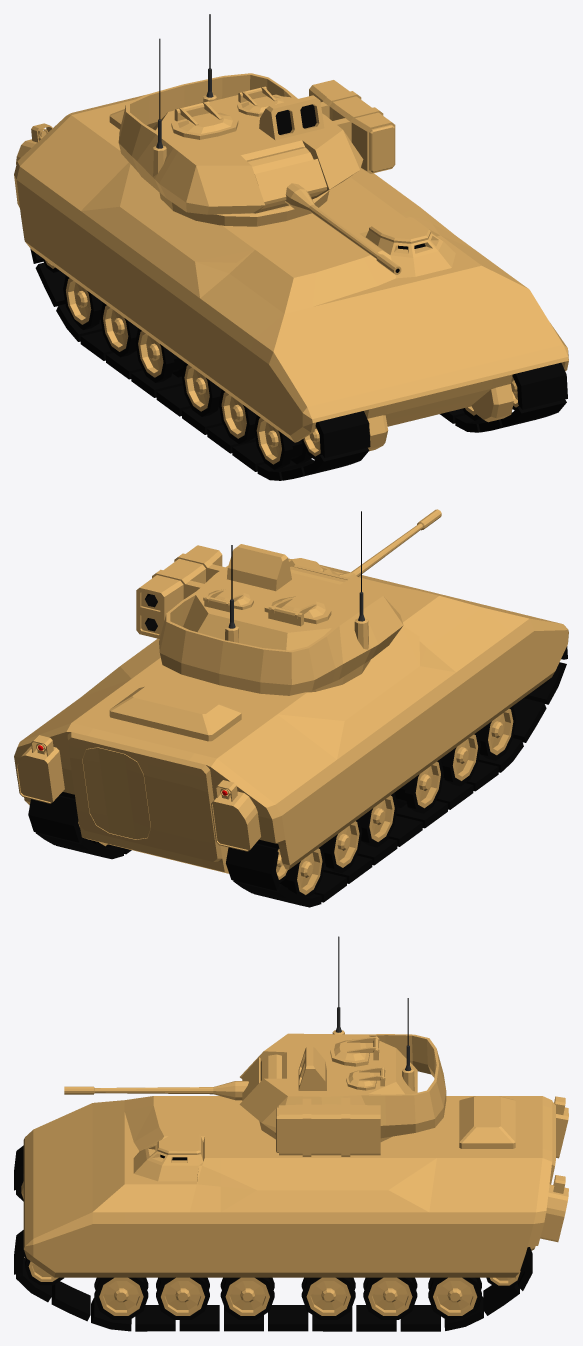
3 renders of one model, top to bottom at view 1: azimuth 30°, elevation 25°; view 2: azimuth 150°, elevation 25°; view 3: azimuth 270°, elevation 25°, orthographic. The views are drawn at different scales.
Visible parts, largest first — view 1: Plane, Plane.001, Cylinder, Plane.003, Plane.004; view 2: Plane, Plane.001, Cylinder, Plane.002, Plane.003, Plane.004; view 3: Plane, Cylinder, Plane.001, Plane.003, Plane.004, Plane.005.
Boxes of the visible parts, left/top/right/bottom form: Plane: left=14, top=95, right=568, bottom=451; Plane.001: left=118, top=14, right=395, bottom=214; Cylinder: left=30, top=249, right=567, bottom=480; Plane.003: left=254, top=159, right=401, bottom=274; Plane.004: left=178, top=102, right=232, bottom=133; Plane: left=14, top=558, right=568, bottom=873; Plane.001: left=136, top=511, right=403, bottom=695; Cylinder: left=28, top=646, right=567, bottom=907; Plane.002: left=82, top=747, right=150, bottom=839; Plane.003: left=294, top=509, right=441, bottom=579; Plane.004: left=271, top=596, right=325, bottom=618; Plane: left=21, top=1096, right=568, bottom=1277; Cylinder: left=14, top=1145, right=532, bottom=1331; Plane.001: left=239, top=936, right=446, bottom=1156; Plane.003: left=64, top=1057, right=260, bottom=1100; Plane.004: left=334, top=1037, right=379, bottom=1060; Plane.005: left=348, top=1067, right=385, bottom=1086.
Bounding box in the file's own units: 310 × 384 × 643.
